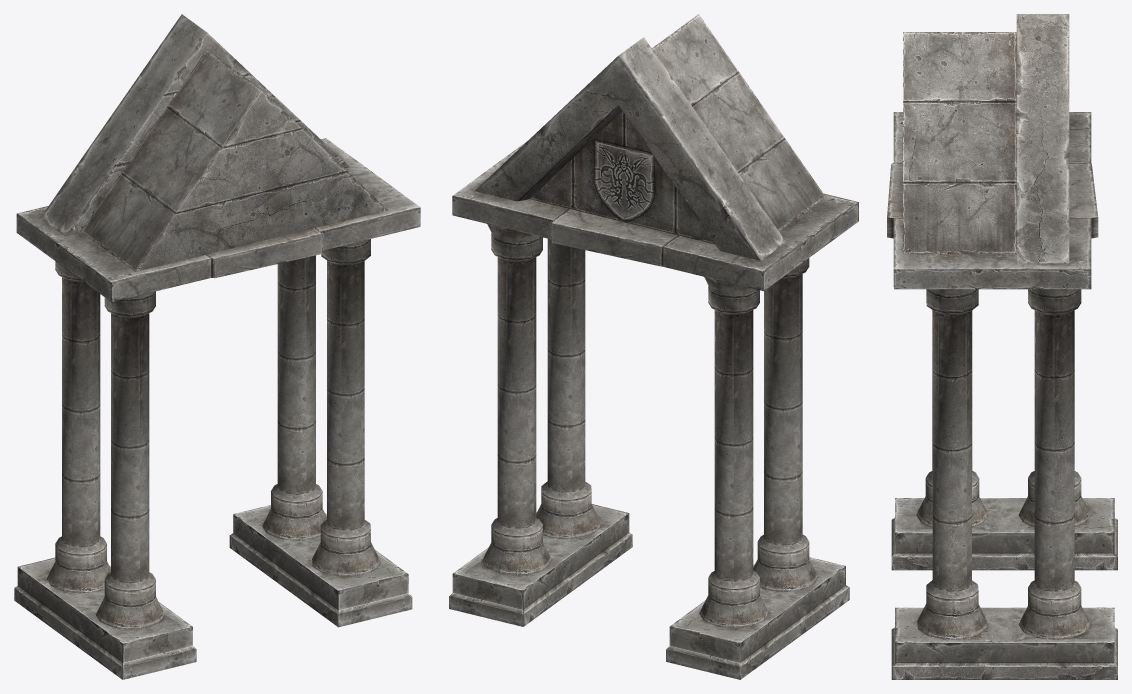
File: bg_lut_lucastle_churchunderprop07_sm_phs.FBX
3 views of the same model, side by side, from view 1: azimuth 30°, elevation 25°; view 2: azimuth 150°, elevation 25°; view 3: azimuth 270°, elevation 25° (orthographic). The views are drawn at different scales.
Parts seen in each view (by area): view 1: bg_lut_lucastle_churchunderprop07_sm_phs; view 2: bg_lut_lucastle_churchunderprop07_sm_phs; view 3: bg_lut_lucastle_churchunderprop07_sm_phs.
Part boxes in pixels (left/top/right/bottom): bg_lut_lucastle_churchunderprop07_sm_phs: left=14, top=14, right=420, bottom=679; bg_lut_lucastle_churchunderprop07_sm_phs: left=449, top=14, right=858, bottom=679; bg_lut_lucastle_churchunderprop07_sm_phs: left=887, top=14, right=1117, bottom=679.
Bounding box in the file's own units: 163 × 287 × 101.
